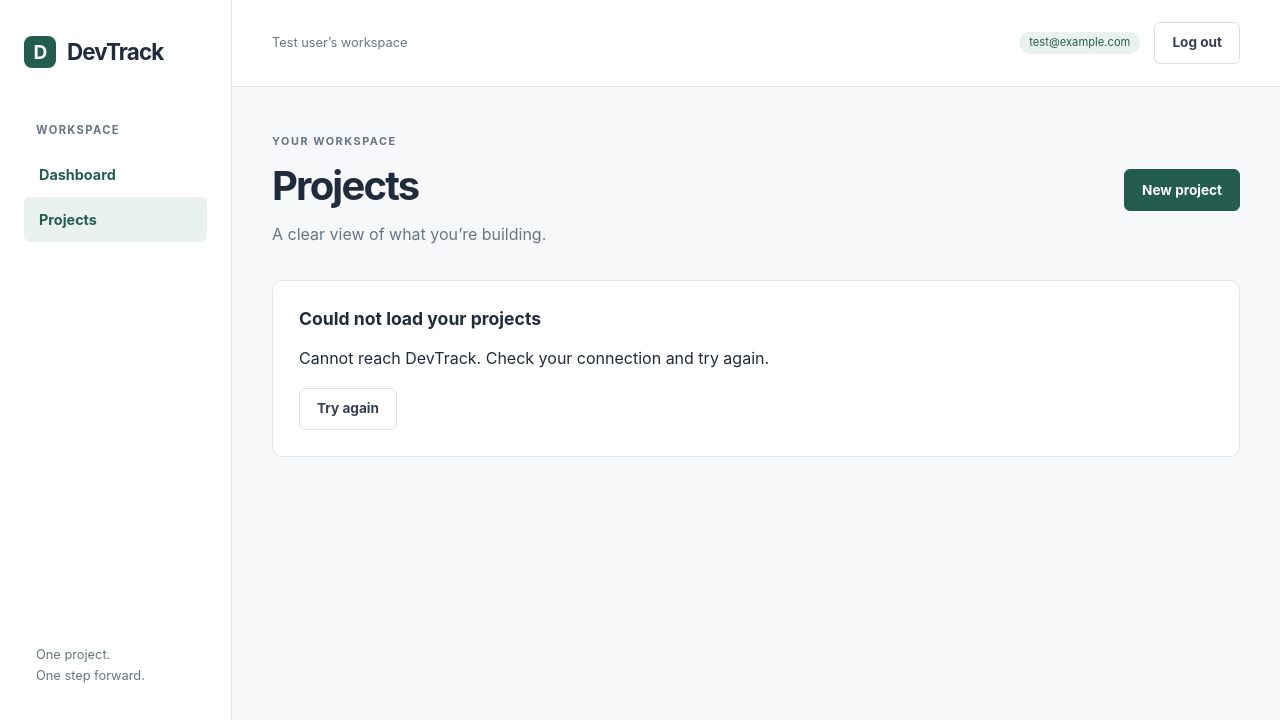
Scenario: project user workflows › shows a load error and recovers when retried
The width and height of the screenshot is (1280, 720).
Expected: the message shows "Cannot reach DevTrack", [299,348,769,368]
Click the button "Try again": (348, 409) [299,388,397,430]
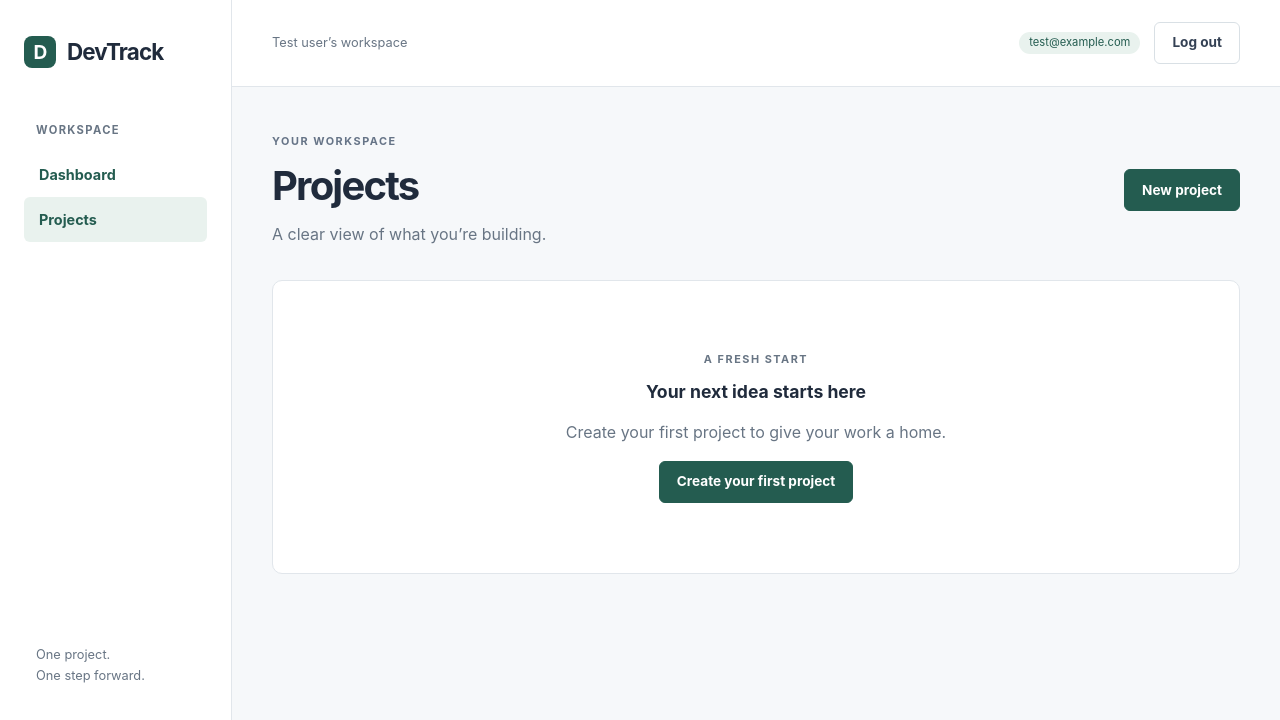
Expected: the heading "Your next idea starts here" is shown, [646,381,866,402]
